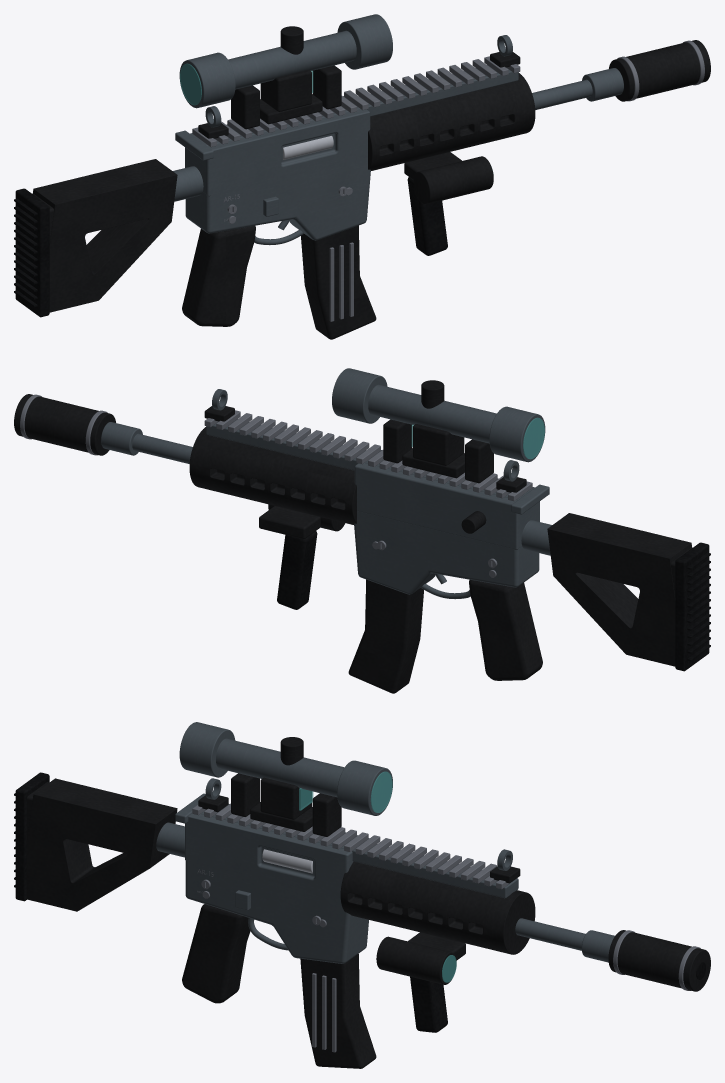
3 views of the same model, one above another, from view 1: azimuth 30°, elevation 25°; view 2: azimuth 150°, elevation 25°; view 3: azimuth 330°, elevation 25° (orthographic).
Visible parts, largest first — view 1: Adjustable stock, Free float handguard, Lower receiver, Upper receiver, Pistol grip, Magazine, optic_scope_tube.004, muzzle_suppressor.003, Butt pad, under_light_body.002, optic_scope_bell.008, optic_scope_bell.009 (+14 smaller); view 2: Adjustable stock, Lower receiver, Free float handguard, Upper receiver, Magazine, Pistol grip, optic_scope_tube.004, muzzle_suppressor.003, Butt pad, optic_scope_bell.008, under_grip_body.002, optic_scope_bell.009 (+12 smaller); view 3: Adjustable stock, Free float handguard, Lower receiver, Upper receiver, Magazine, Pistol grip, muzzle_suppressor.003, optic_scope_tube.004, under_light_body.002, optic_scope_bell.009, Continuous rail spine, optic_scope_bell.008 (+13 smaller).
Boxes of the visible parts, x1,y1,x2,y2 form: Adjustable stock: (32, 159, 177, 312); Free float handguard: (368, 73, 535, 170); Lower receiver: (185, 157, 370, 240); Upper receiver: (185, 96, 370, 196); Pistol grip: (182, 225, 255, 326); Magazine: (301, 225, 376, 339); optic_scope_tube.004: (228, 30, 356, 89); muzzle_suppressor.003: (609, 40, 710, 101); Butt pad: (15, 188, 49, 317); under_light_body.002: (413, 156, 493, 204); optic_scope_bell.008: (179, 52, 235, 108); optic_scope_bell.009: (337, 14, 392, 69); Adjustable stock: (547, 513, 692, 666); Lower receiver: (354, 510, 539, 594); Free float handguard: (189, 427, 356, 524); Upper receiver: (354, 450, 539, 549); Magazine: (348, 579, 423, 693); Pistol grip: (469, 579, 542, 680); optic_scope_tube.004: (368, 384, 496, 443); muzzle_suppressor.003: (14, 394, 115, 455); Butt pad: (675, 542, 709, 671); optic_scope_bell.008: (489, 406, 545, 462); under_grip_body.002: (277, 531, 317, 609); optic_scope_bell.009: (332, 368, 387, 423); Adjustable stock: (26, 778, 177, 911); Free float handguard: (340, 861, 535, 954); Lower receiver: (185, 860, 368, 963); Upper receiver: (185, 804, 369, 897); Magazine: (300, 954, 376, 1068); Pistol grip: (182, 904, 254, 1003); muzzle_suppressor.003: (608, 930, 710, 991); optic_scope_tube.004: (216, 738, 344, 797); under_light_body.002: (376, 936, 456, 984); optic_scope_bell.009: (337, 760, 392, 815); Continuous rail spine: (201, 807, 518, 898); optic_scope_bell.008: (179, 722, 235, 777).
Bounding box in the file's own units: 2.32 × 1.02 × 0.2955.
Materials: 6 (5 with a texture image).
